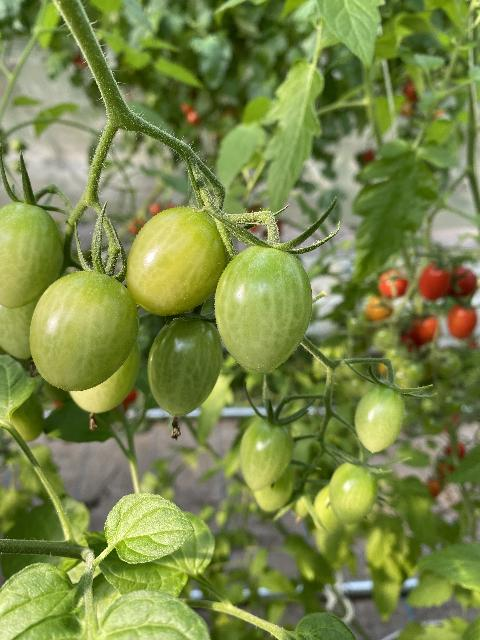l_green: (30, 269, 140, 391), (215, 243, 313, 372), (126, 205, 227, 317), (146, 313, 223, 417), (0, 203, 64, 308), (69, 340, 141, 414), (239, 417, 294, 492), (0, 285, 50, 360), (354, 382, 405, 453), (328, 458, 379, 526), (253, 457, 294, 511)
